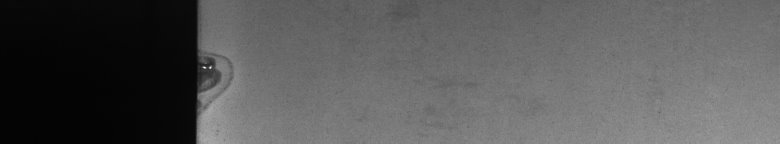hb: (208, 47, 238, 112)
